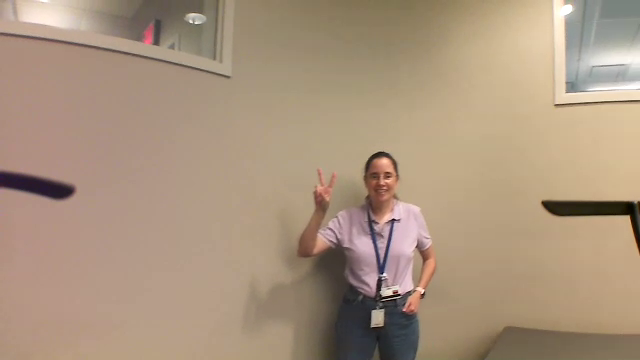peace: (307, 162, 340, 203)
